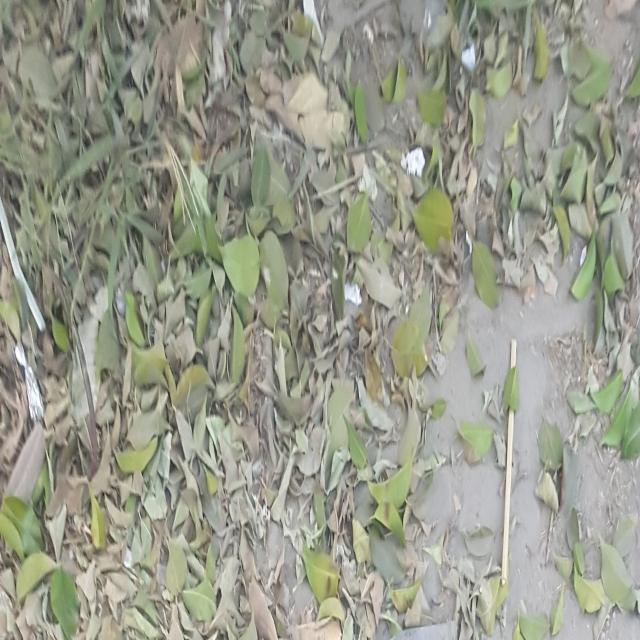paper: (400, 157, 512, 320)
